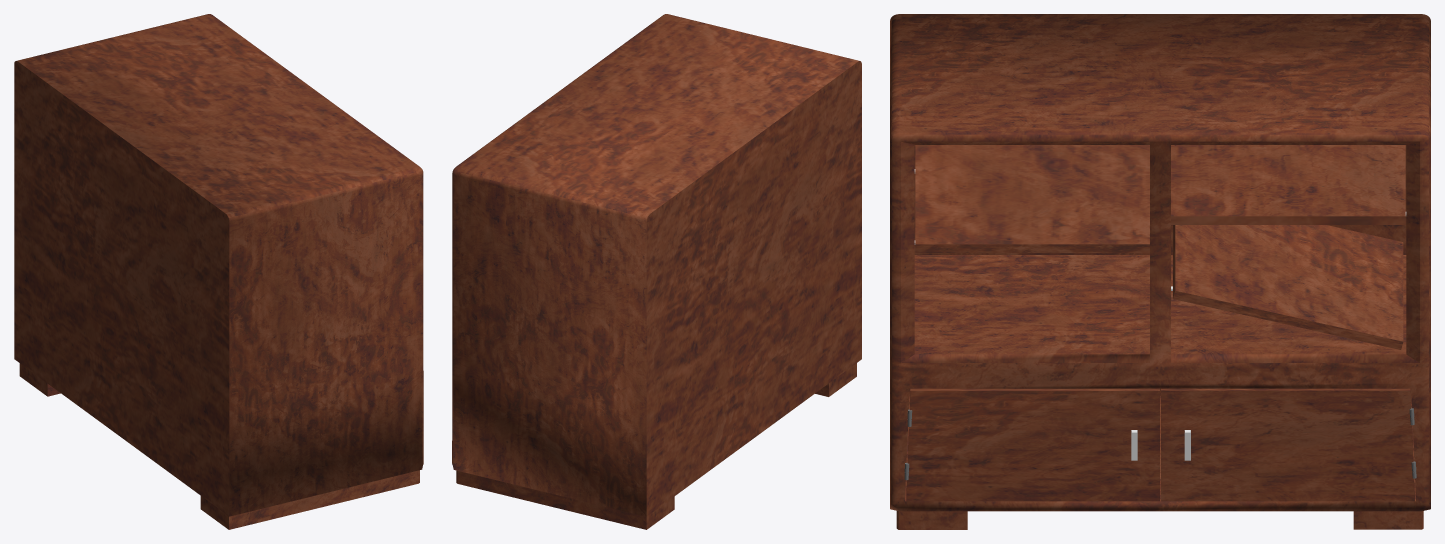
File: gablota.fbx
The picture shows the model from 3 angles, left to right: view 1: azimuth 30°, elevation 25°; view 2: azimuth 150°, elevation 25°; view 3: azimuth 270°, elevation 25°; orthographic projection. The views are drawn at different scales.
Parts seen in each view (by area): view 1: komoda; view 2: komoda; view 3: komoda, Cube.004, Cube.008, Cube.001, Cube.003, Cube.002.
Part boxes in pixels (x1=…): komoda: x1=14, y1=14, x2=423, y2=529; komoda: x1=452, y1=14, x2=861, y2=529; komoda: x1=890, y1=14, x2=1430, y2=529; Cube.004: x1=1161, y1=388, x2=1414, y2=501; Cube.008: x1=906, y1=388, x2=1159, y2=501; Cube.001: x1=915, y1=145, x2=1149, y2=252; Cube.003: x1=1173, y1=225, x2=1403, y2=349; Cube.002: x1=1171, y1=145, x2=1405, y2=224.
Size of the model in its own units: 331 by 493 by 608.
